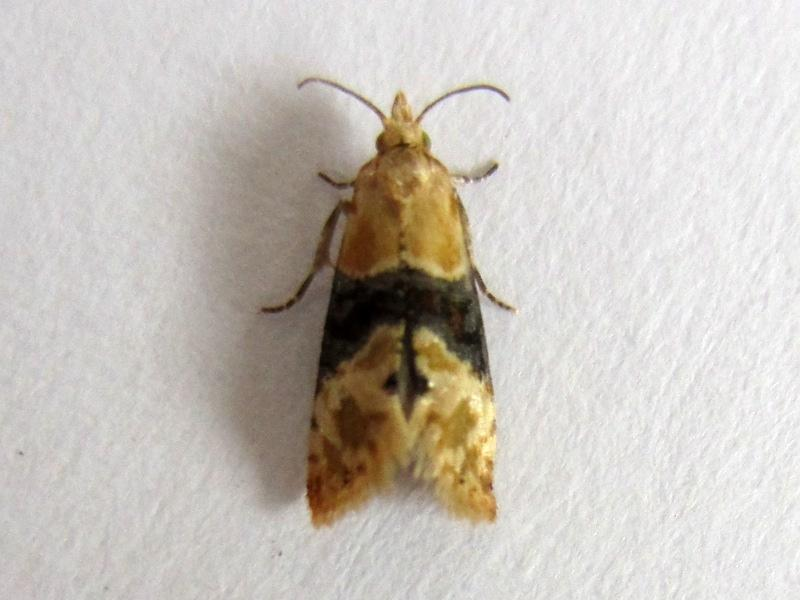Eupoecilia Ambiguella: (256, 72, 521, 530)
